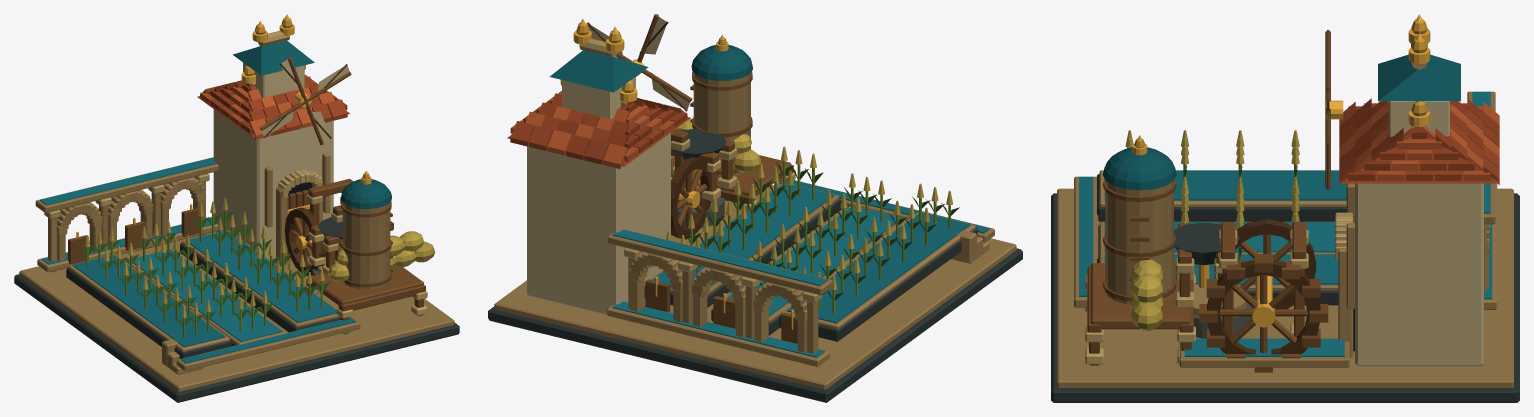
The picture shows the model from 3 angles, left to right: view 1: azimuth 30°, elevation 25°; view 2: azimuth 150°, elevation 25°; view 3: azimuth 270°, elevation 25°; orthographic projection. The views are drawn at different scales.
Parts seen in each view (by area): view 1: farm_14_structure, farm_14_metal; view 2: farm_14_structure, farm_14_metal; view 3: farm_14_structure, farm_14_metal.
Boxes of the visible parts, x1=… form: farm_14_structure: x1=14, y1=18, x2=459, y2=402; farm_14_metal: x1=76, y1=14, x2=371, y2=250; farm_14_structure: x1=488, y1=14, x2=1022, y2=402; farm_14_metal: x1=560, y1=18, x2=794, y2=329; farm_14_structure: x1=1051, y1=19, x2=1519, y2=402; farm_14_metal: x1=1132, y1=14, x2=1430, y2=327.
Size of the model in its own units: 5.6 by 4.37 by 5.46.
